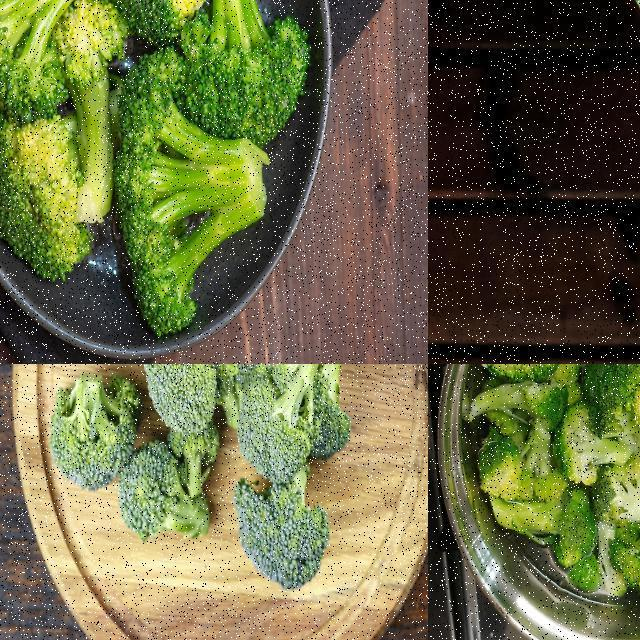broccoli: (110, 51, 276, 336), (172, 0, 306, 146), (0, 98, 100, 282), (226, 452, 326, 594), (44, 366, 142, 492), (0, 0, 100, 119), (239, 364, 324, 481), (479, 487, 604, 564), (120, 449, 214, 546), (104, 0, 244, 51), (140, 364, 237, 437), (300, 364, 361, 469), (560, 404, 632, 484)
